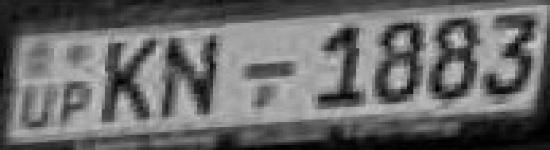-: (238, 59, 300, 83)
1: (310, 22, 370, 111)
3: (478, 8, 541, 102)
8: (369, 17, 428, 107), (426, 10, 480, 104)
K: (96, 32, 160, 126)
N: (158, 32, 228, 124)
P: (56, 78, 97, 128)
U: (19, 81, 59, 130)
